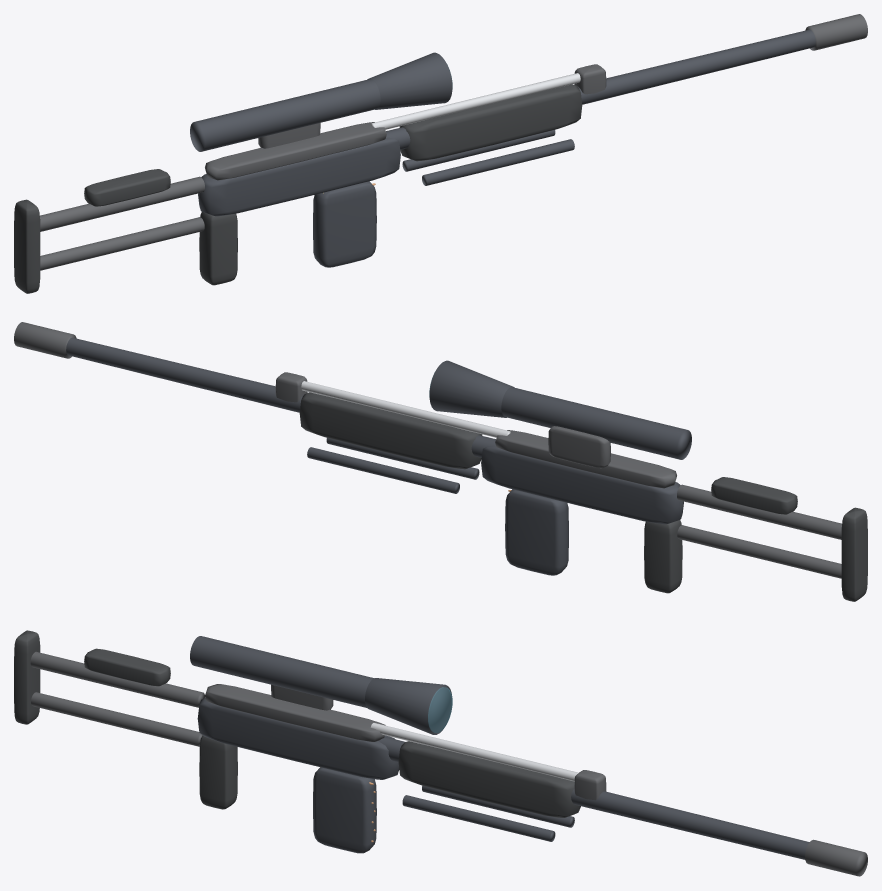
Rendered from svdsm-reg.glb.
3 views of the same model, one above another, from view 1: azimuth 30°, elevation 25°; view 2: azimuth 150°, elevation 25°; view 3: azimuth 330°, elevation 25° (orthographic).
Parts seen in each view (by area): view 1: receiver, handguard, optic_tube, barrel, mag_body, dust_cover, optic_obj, pistol_grip, stock_bot_tube, stock_top_tube, stock_buttplate, gas_piston_short (+6 smaller); view 2: receiver, handguard, optic_tube, barrel, mag_body, optic_obj, dust_cover, pistol_grip, stock_bot_tube, stock_top_tube, stock_buttplate, gas_piston_short (+6 smaller); view 3: handguard, receiver, optic_tube, barrel, mag_body, dust_cover, optic_obj, stock_bot_tube, pistol_grip, stock_top_tube, gas_piston_short, stock_buttplate (+7 smaller).
Part boxes in pixels (x1=…): receiver: x1=198, y1=137, x2=400, y2=216; handguard: x1=399, y1=84, x2=582, y2=161; optic_tube: x1=190, y1=79, x2=380, y2=151; barrel: x1=386, y1=29, x2=815, y2=149; mag_body: x1=313, y1=181, x2=376, y2=267; dust_cover: x1=205, y1=122, x2=386, y2=180; optic_obj: x1=367, y1=52, x2=452, y2=109; pistol_grip: x1=199, y1=212, x2=237, y2=285; stock_bot_tube: x1=40, y1=217, x2=204, y2=270; stock_top_tube: x1=40, y1=176, x2=204, y2=231; stock_buttplate: x1=14, y1=199, x2=40, y2=293; gas_piston_short: x1=370, y1=73, x2=580, y2=129; receiver: x1=481, y1=445, x2=683, y2=524; handguard: x1=299, y1=392, x2=482, y2=469; optic_tube: x1=501, y1=387, x2=691, y2=459; barrel: x1=66, y1=337, x2=495, y2=457; mag_body: x1=505, y1=489, x2=568, y2=575; optic_obj: x1=429, y1=360, x2=514, y2=417; dust_cover: x1=495, y1=430, x2=676, y2=488; pistol_grip: x1=644, y1=520, x2=682, y2=593; stock_bot_tube: x1=677, y1=525, x2=841, y2=578; stock_top_tube: x1=677, y1=484, x2=841, y2=539; stock_buttplate: x1=841, y1=507, x2=867, y2=601; gas_piston_short: x1=301, y1=381, x2=511, y2=437; handguard: x1=398, y1=741, x2=580, y2=817; receiver: x1=197, y1=698, x2=399, y2=779; optic_tube: x1=190, y1=636, x2=373, y2=707; barrel: x1=378, y1=737, x2=809, y2=859; mag_body: x1=313, y1=767, x2=376, y2=853; dust_cover: x1=204, y1=684, x2=385, y2=741; optic_obj: x1=365, y1=678, x2=451, y2=734; stock_bot_tube: x1=31, y1=692, x2=202, y2=746; pistol_grip: x1=199, y1=735, x2=237, y2=809; stock_top_tube: x1=30, y1=651, x2=204, y2=707; gas_piston_short: x1=370, y1=723, x2=578, y2=781; stock_buttplate: x1=14, y1=630, x2=40, y2=724.
Bounding box in the file's own units: 1.2 × 0.2505 × 0.0635.
